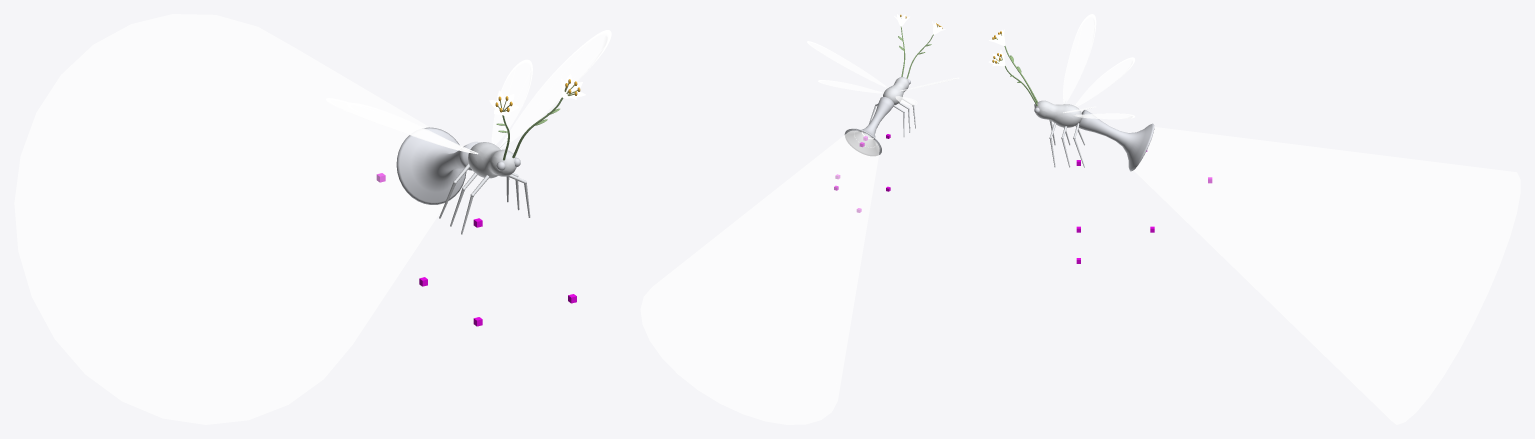
The model's file is 05_trombettina_gabriele.glb.
The picture shows the model from 3 angles, left to right: view 1: azimuth 30°, elevation 25°; view 2: azimuth 150°, elevation 25°; view 3: azimuth 270°, elevation 25°; orthographic projection. The views are drawn at different scales.
Visible parts, largest first — view 1: Gabriele__Fascio_Lunare, Gabriele__Ali_Bianche, Gabriele__Tromba_Argento, Gabriele__Chitina_Perla, Gabriele__Petali_Giglio; view 2: Gabriele__Fascio_Lunare, Gabriele__Ali_Bianche, Gabriele__Tromba_Argento, Gabriele__Chitina_Perla; view 3: Gabriele__Fascio_Lunare, Gabriele__Ali_Bianche, Gabriele__Tromba_Argento, Gabriele__Chitina_Perla.
Part boxes in pixels (box(x1,y1,x2,y2)): Gabriele__Fascio_Lunare: box(14, 14, 444, 424); Gabriele__Ali_Bianche: box(326, 30, 611, 154); Gabriele__Tromba_Argento: box(396, 127, 520, 204); Gabriele__Chitina_Perla: box(439, 142, 530, 234); Gabriele__Petali_Giglio: box(489, 74, 585, 117); Gabriele__Fascio_Lunare: box(640, 130, 879, 424); Gabriele__Ali_Bianche: box(807, 41, 959, 105); Gabriele__Tromba_Argento: box(844, 79, 910, 155); Gabriele__Chitina_Perla: box(868, 77, 915, 137); Gabriele__Fascio_Lunare: box(1134, 127, 1520, 424); Gabriele__Ali_Bianche: box(1063, 14, 1134, 119); Gabriele__Tromba_Argento: box(1034, 104, 1154, 171); Gabriele__Chitina_Perla: box(1034, 100, 1084, 167).
Size of the model in its own units: 5.69 by 8.3 by 10.82.
10 materials, 1 textured.
